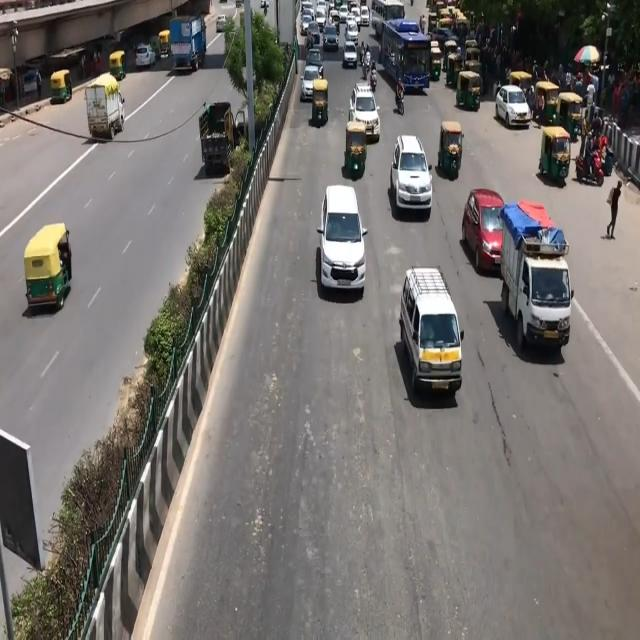Tempo: (502, 208, 580, 353)
